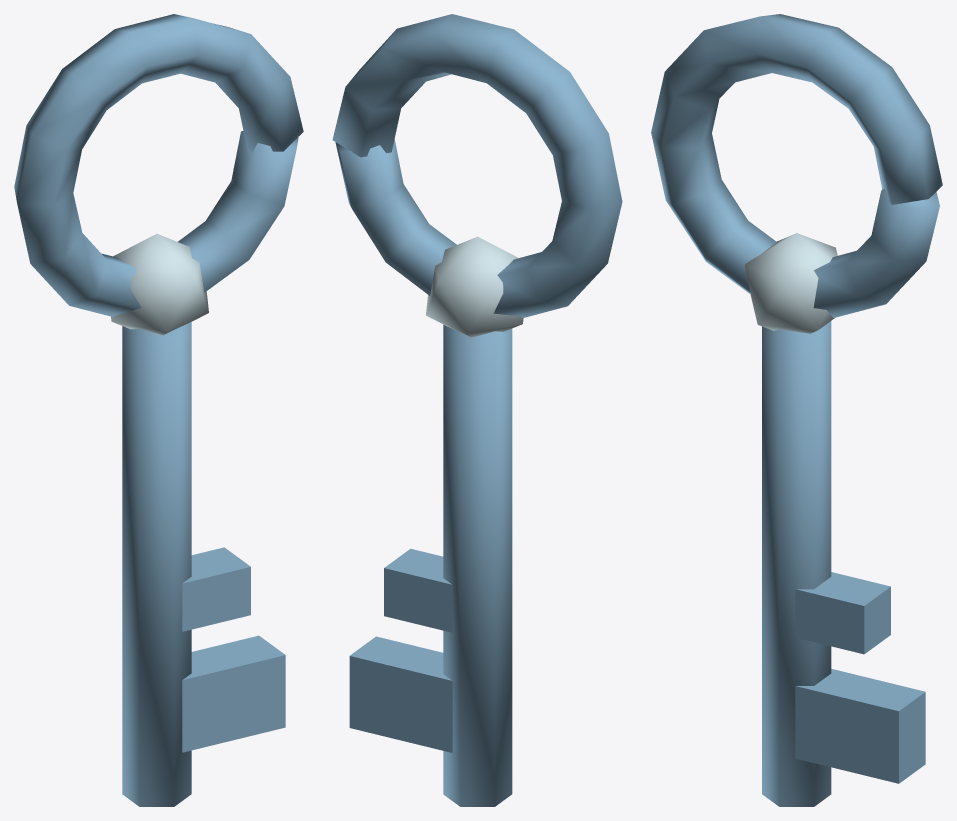
File: frozen_key.glb
The picture shows the model from 3 angles, left to right: view 1: azimuth 30°, elevation 25°; view 2: azimuth 150°, elevation 25°; view 3: azimuth 330°, elevation 25°; orthographic projection.
Visible parts, largest first — view 1: frozen_key_v0; view 2: frozen_key_v0; view 3: frozen_key_v0.
Boxes of the visible parts, left/top/right/bottom form: frozen_key_v0: left=14, top=14, right=303, bottom=806; frozen_key_v0: left=332, top=14, right=622, bottom=806; frozen_key_v0: left=651, top=14, right=942, bottom=806.
Size of the model in its own units: 0.1235 by 0.3199 by 0.0374.
